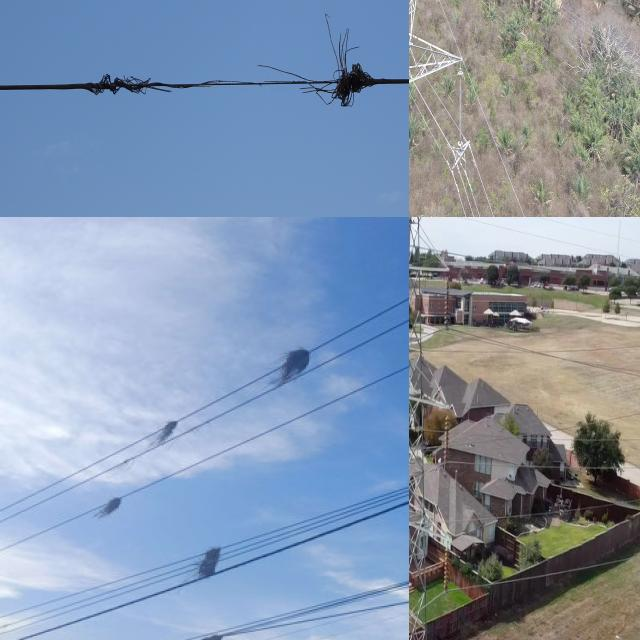杆塔: (409, 0, 481, 217), (409, 217, 440, 640)
植被遮挡: (263, 343, 318, 395), (185, 540, 232, 589), (144, 414, 187, 457), (90, 490, 133, 523)
正常电缆: (448, 554, 640, 594)
正常绝缘子: (442, 410, 452, 470), (444, 274, 452, 330), (458, 70, 463, 147), (443, 544, 450, 594)
电缆破损: (87, 47, 379, 113)
